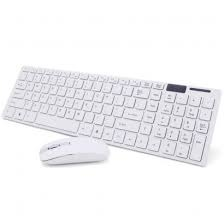keyboard: (0, 64, 218, 169)
mouse: (33, 133, 111, 169)
